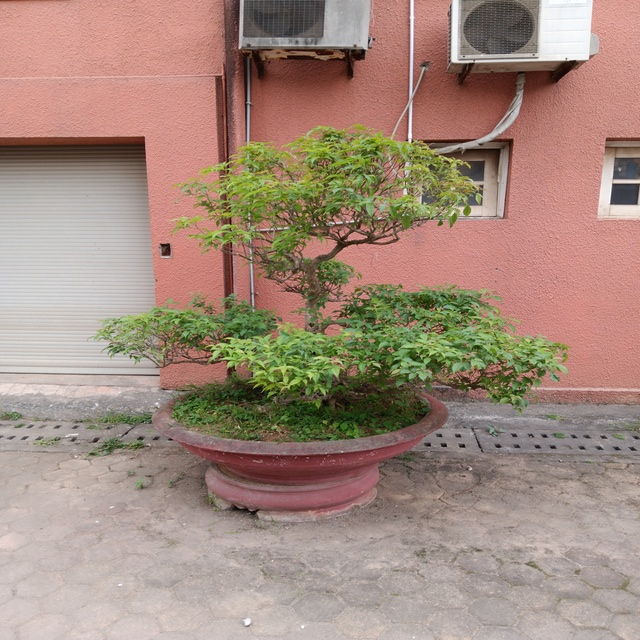caycanh: (150, 118, 507, 527)
